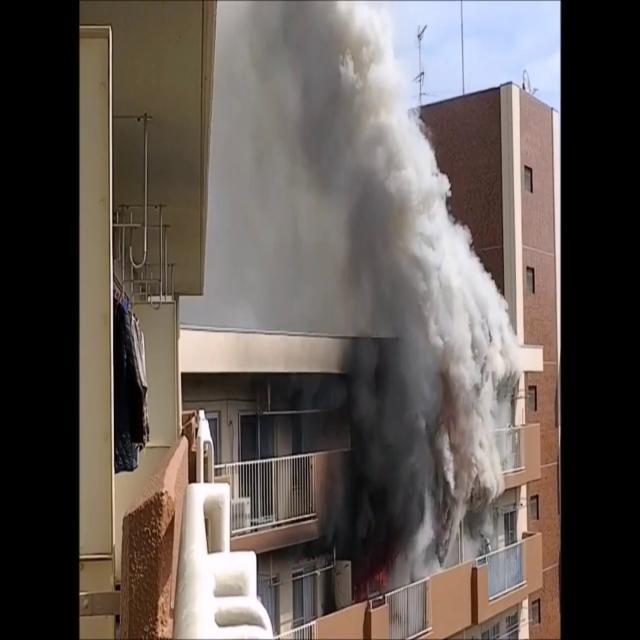Smoke: (230, 1, 513, 556)
